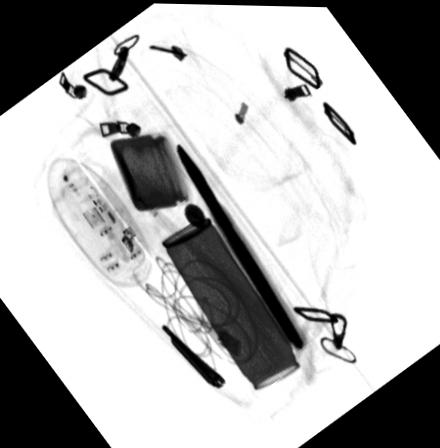Pliers: (173, 139, 308, 350)
